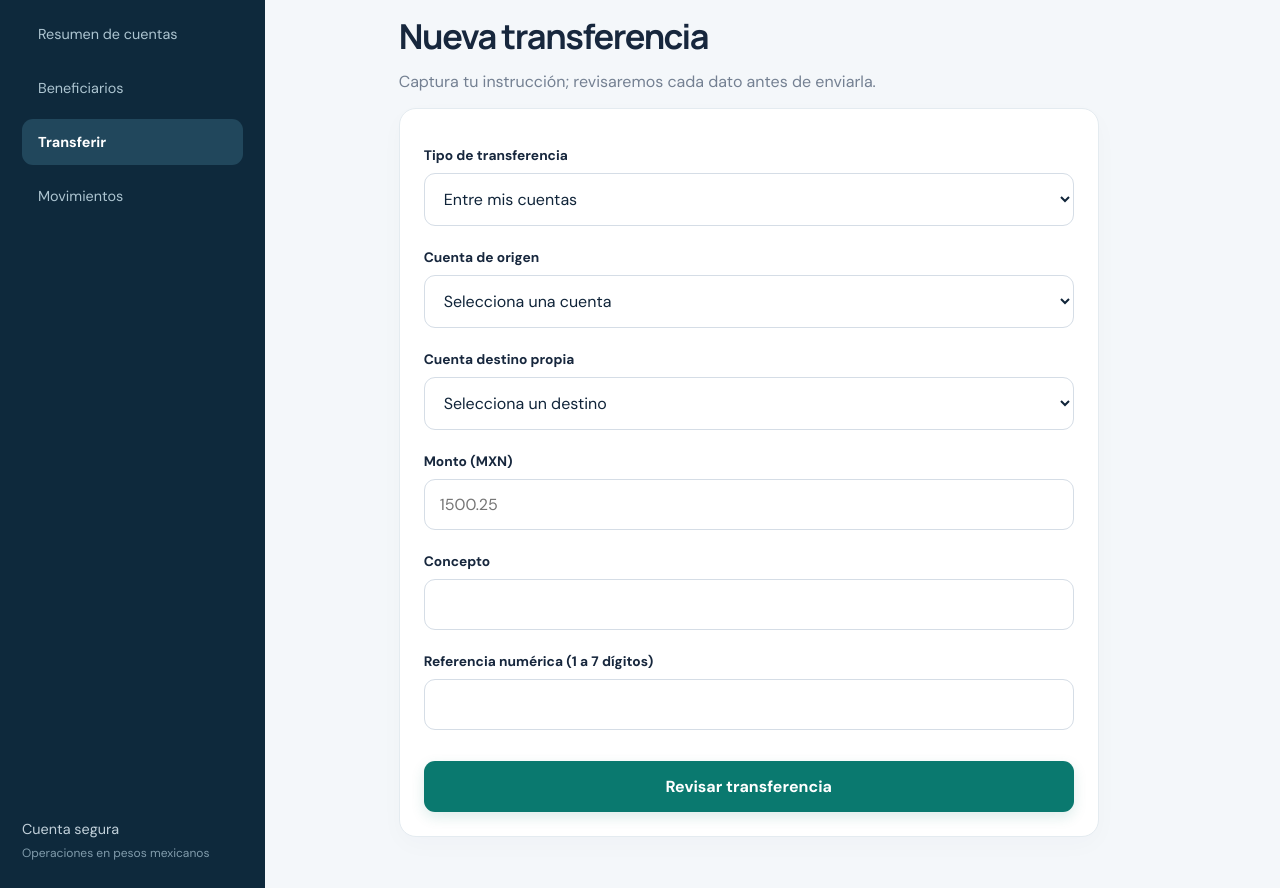
it: T-25 recorrido integrado y accesibilidad web › en formulario inválido enfoca el primer campo y relaciona su error accesible
The image size is (1280, 888).
(page scrolled)
Expected: the heading "Nueva transferencia" is shown, 399,12 -> 708,59
Click the button "Revisar transferencia" at {"x": 749, "y": 786}, box 424,761 -> 1074,812
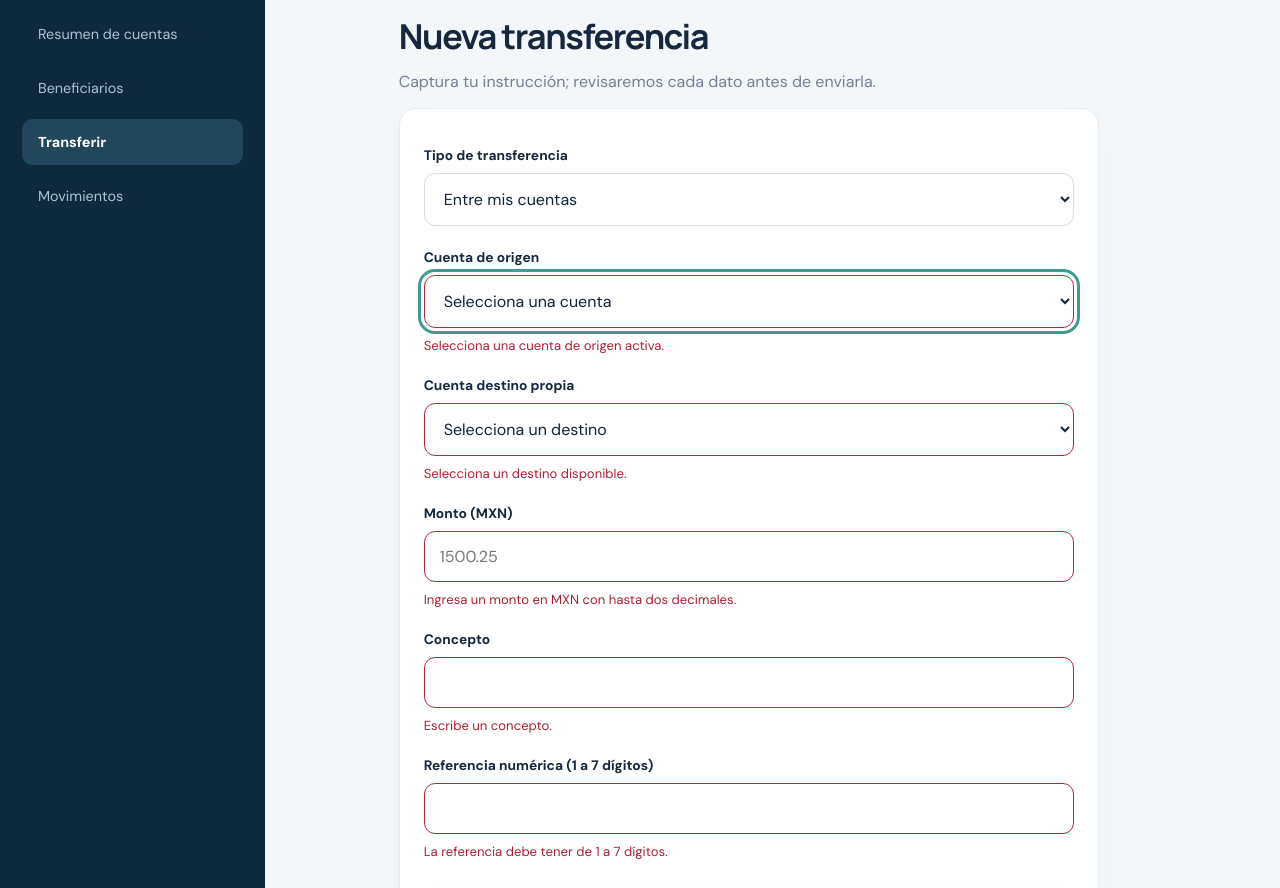
Expected: the message "Selecciona una cuenta de origen activa." is shown, 424,337 -> 664,354
